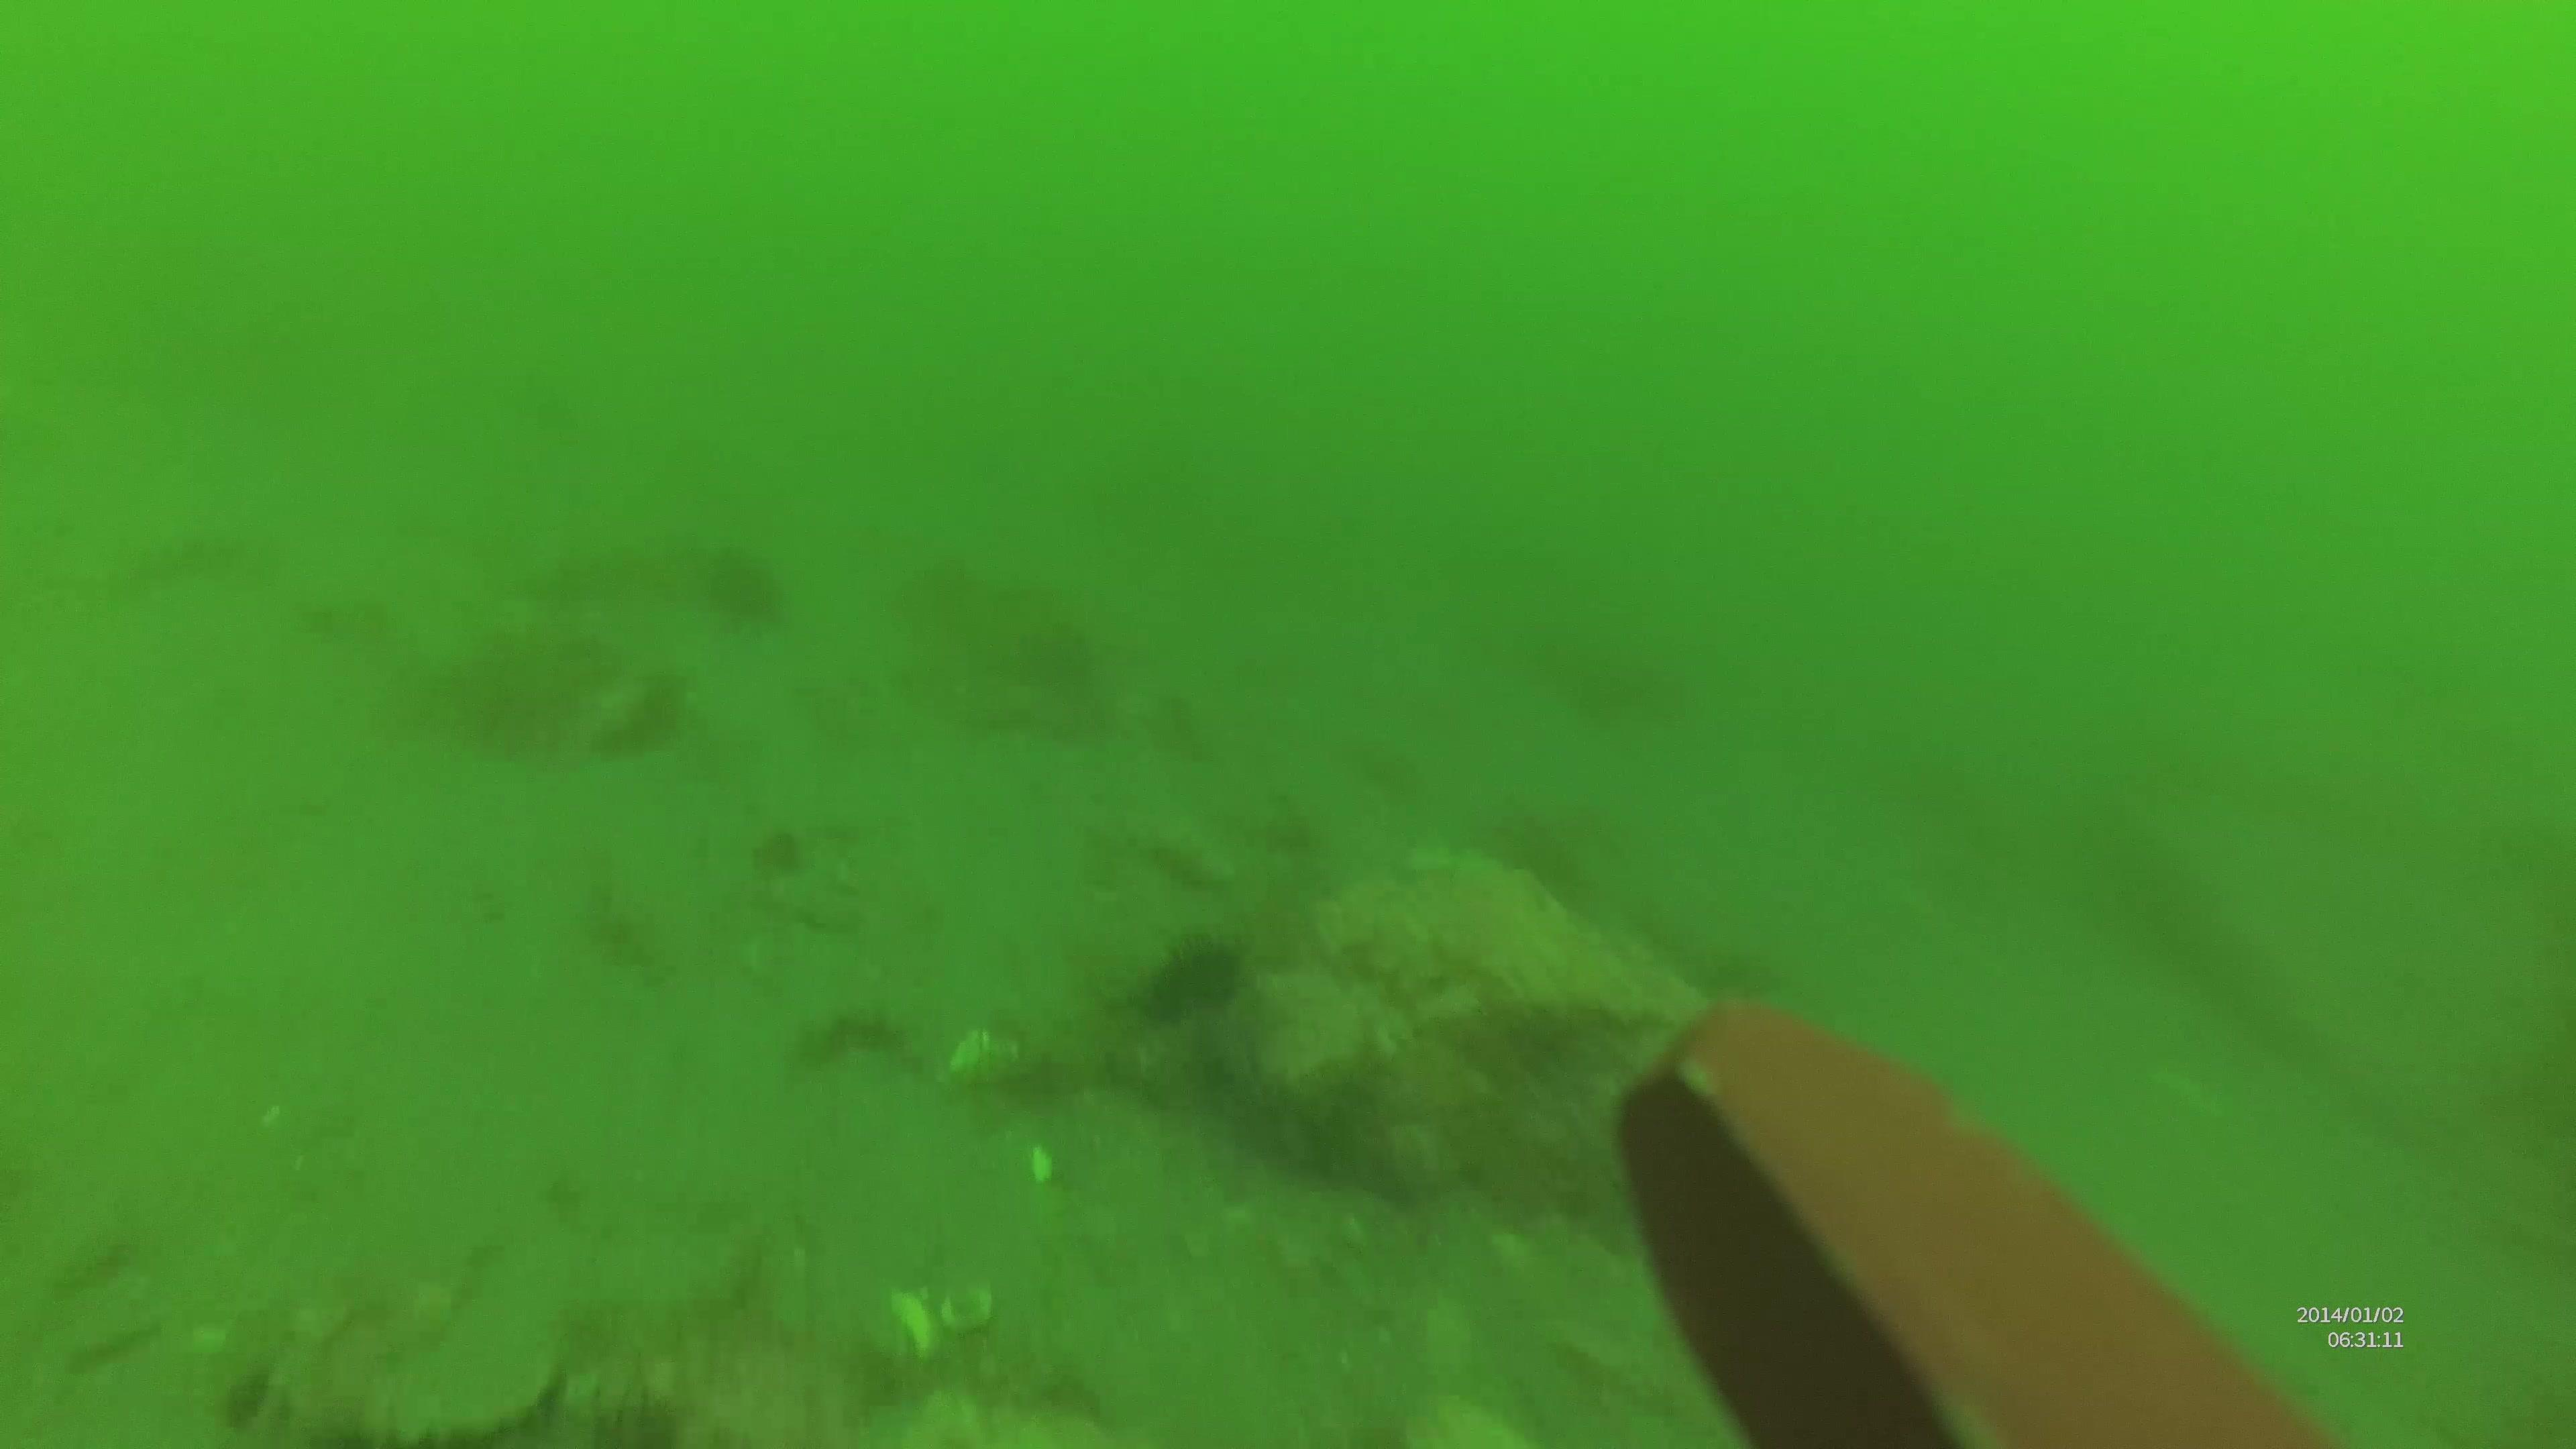echinus: (1146, 931, 1260, 1042)
